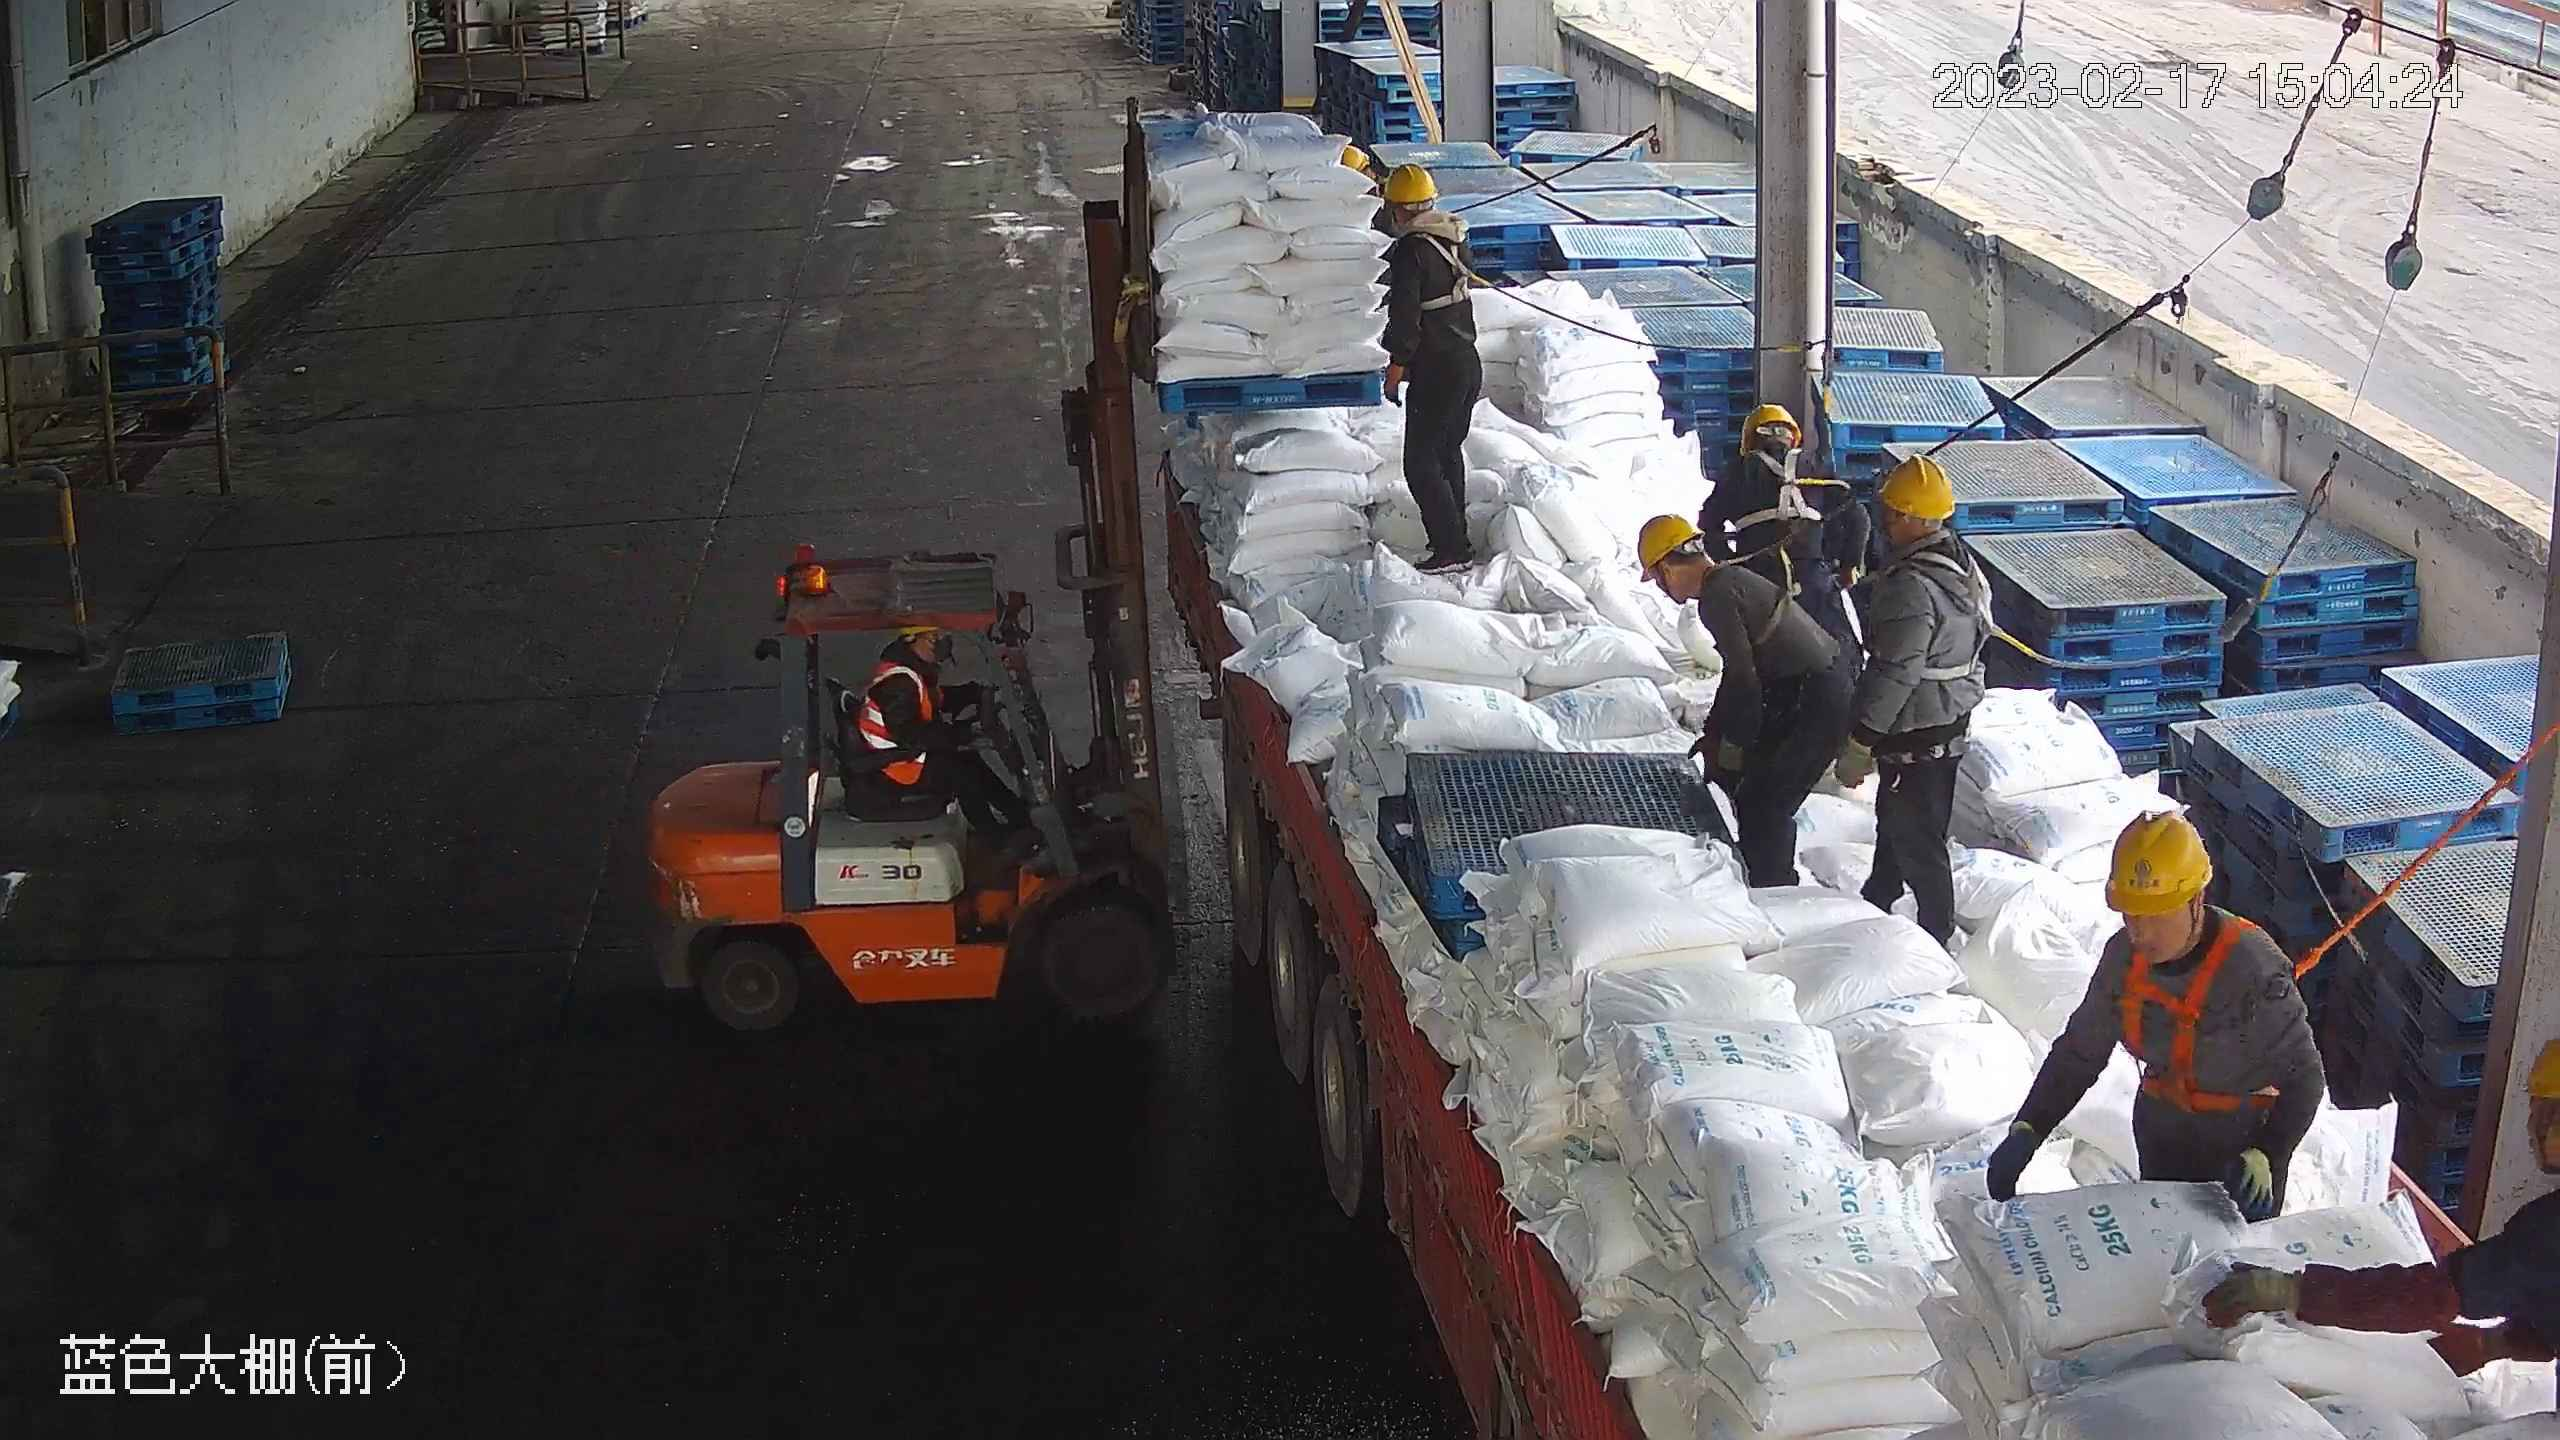belt: (2103, 914, 2308, 1122), (1886, 550, 2028, 694), (1695, 544, 1822, 656), (1731, 442, 1828, 531), (1404, 216, 1488, 313)
head: (2077, 802, 2291, 1009), (1860, 452, 1985, 611), (1638, 510, 1776, 635), (1372, 161, 1476, 277), (1717, 402, 1817, 507)
helmet: (2098, 806, 2212, 915), (1877, 452, 1957, 519), (1634, 512, 1704, 579), (1378, 159, 1439, 204), (1742, 402, 1798, 449), (2524, 1032, 2560, 1105), (1334, 142, 1379, 176)
people: (1980, 811, 2323, 1224), (1629, 499, 1852, 895), (1834, 449, 1991, 954), (1367, 160, 1490, 578), (849, 624, 1040, 858)
truck: (1177, 453, 2531, 1439)
